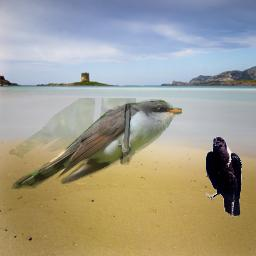Crow: (205, 136, 242, 218)
Cuckoo: (9, 98, 182, 189)
